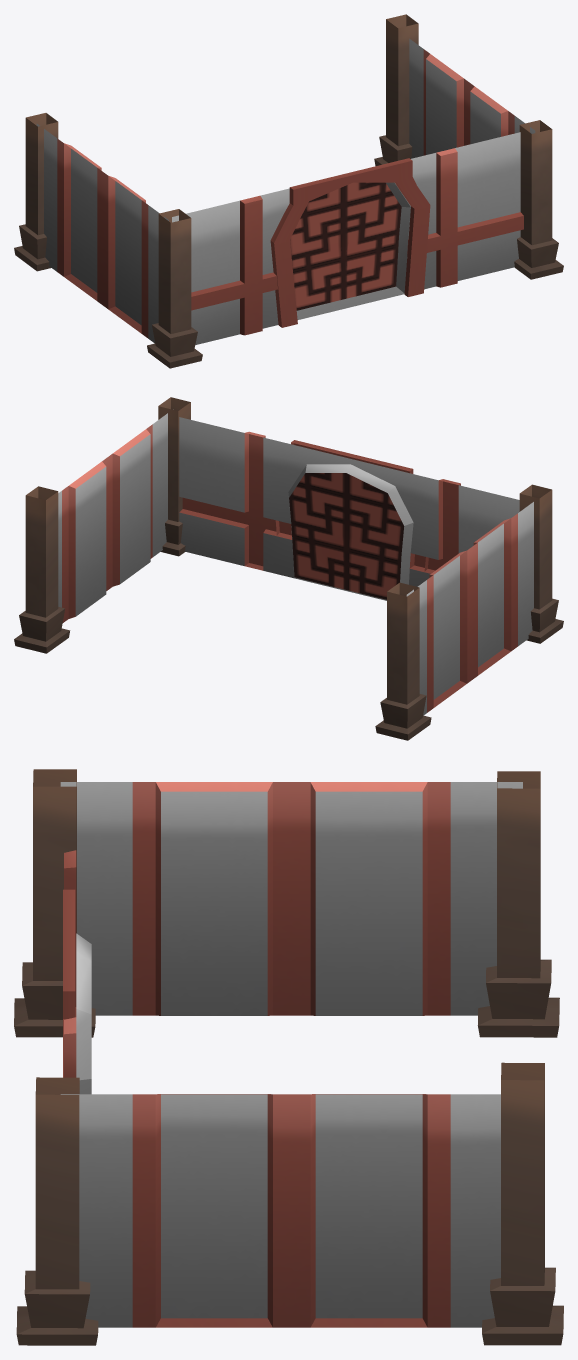
The model's file is floor1_blacksmith.fbx.
3 renders of one model, top to bottom at view 1: azimuth 30°, elevation 25°; view 2: azimuth 150°, elevation 25°; view 3: azimuth 270°, elevation 25°, orthographic. The views are drawn at different scales.
Visible parts, largest first — view 1: floor1_blacksmith; view 2: floor1_blacksmith; view 3: floor1_blacksmith.
Boxes of the visible parts, bbox=[...] form: floor1_blacksmith: bbox=[14, 14, 563, 368]; floor1_blacksmith: bbox=[14, 397, 563, 740]; floor1_blacksmith: bbox=[14, 769, 563, 1345].
Bounding box in the file's own units: 5 × 1.8 × 3.45.
